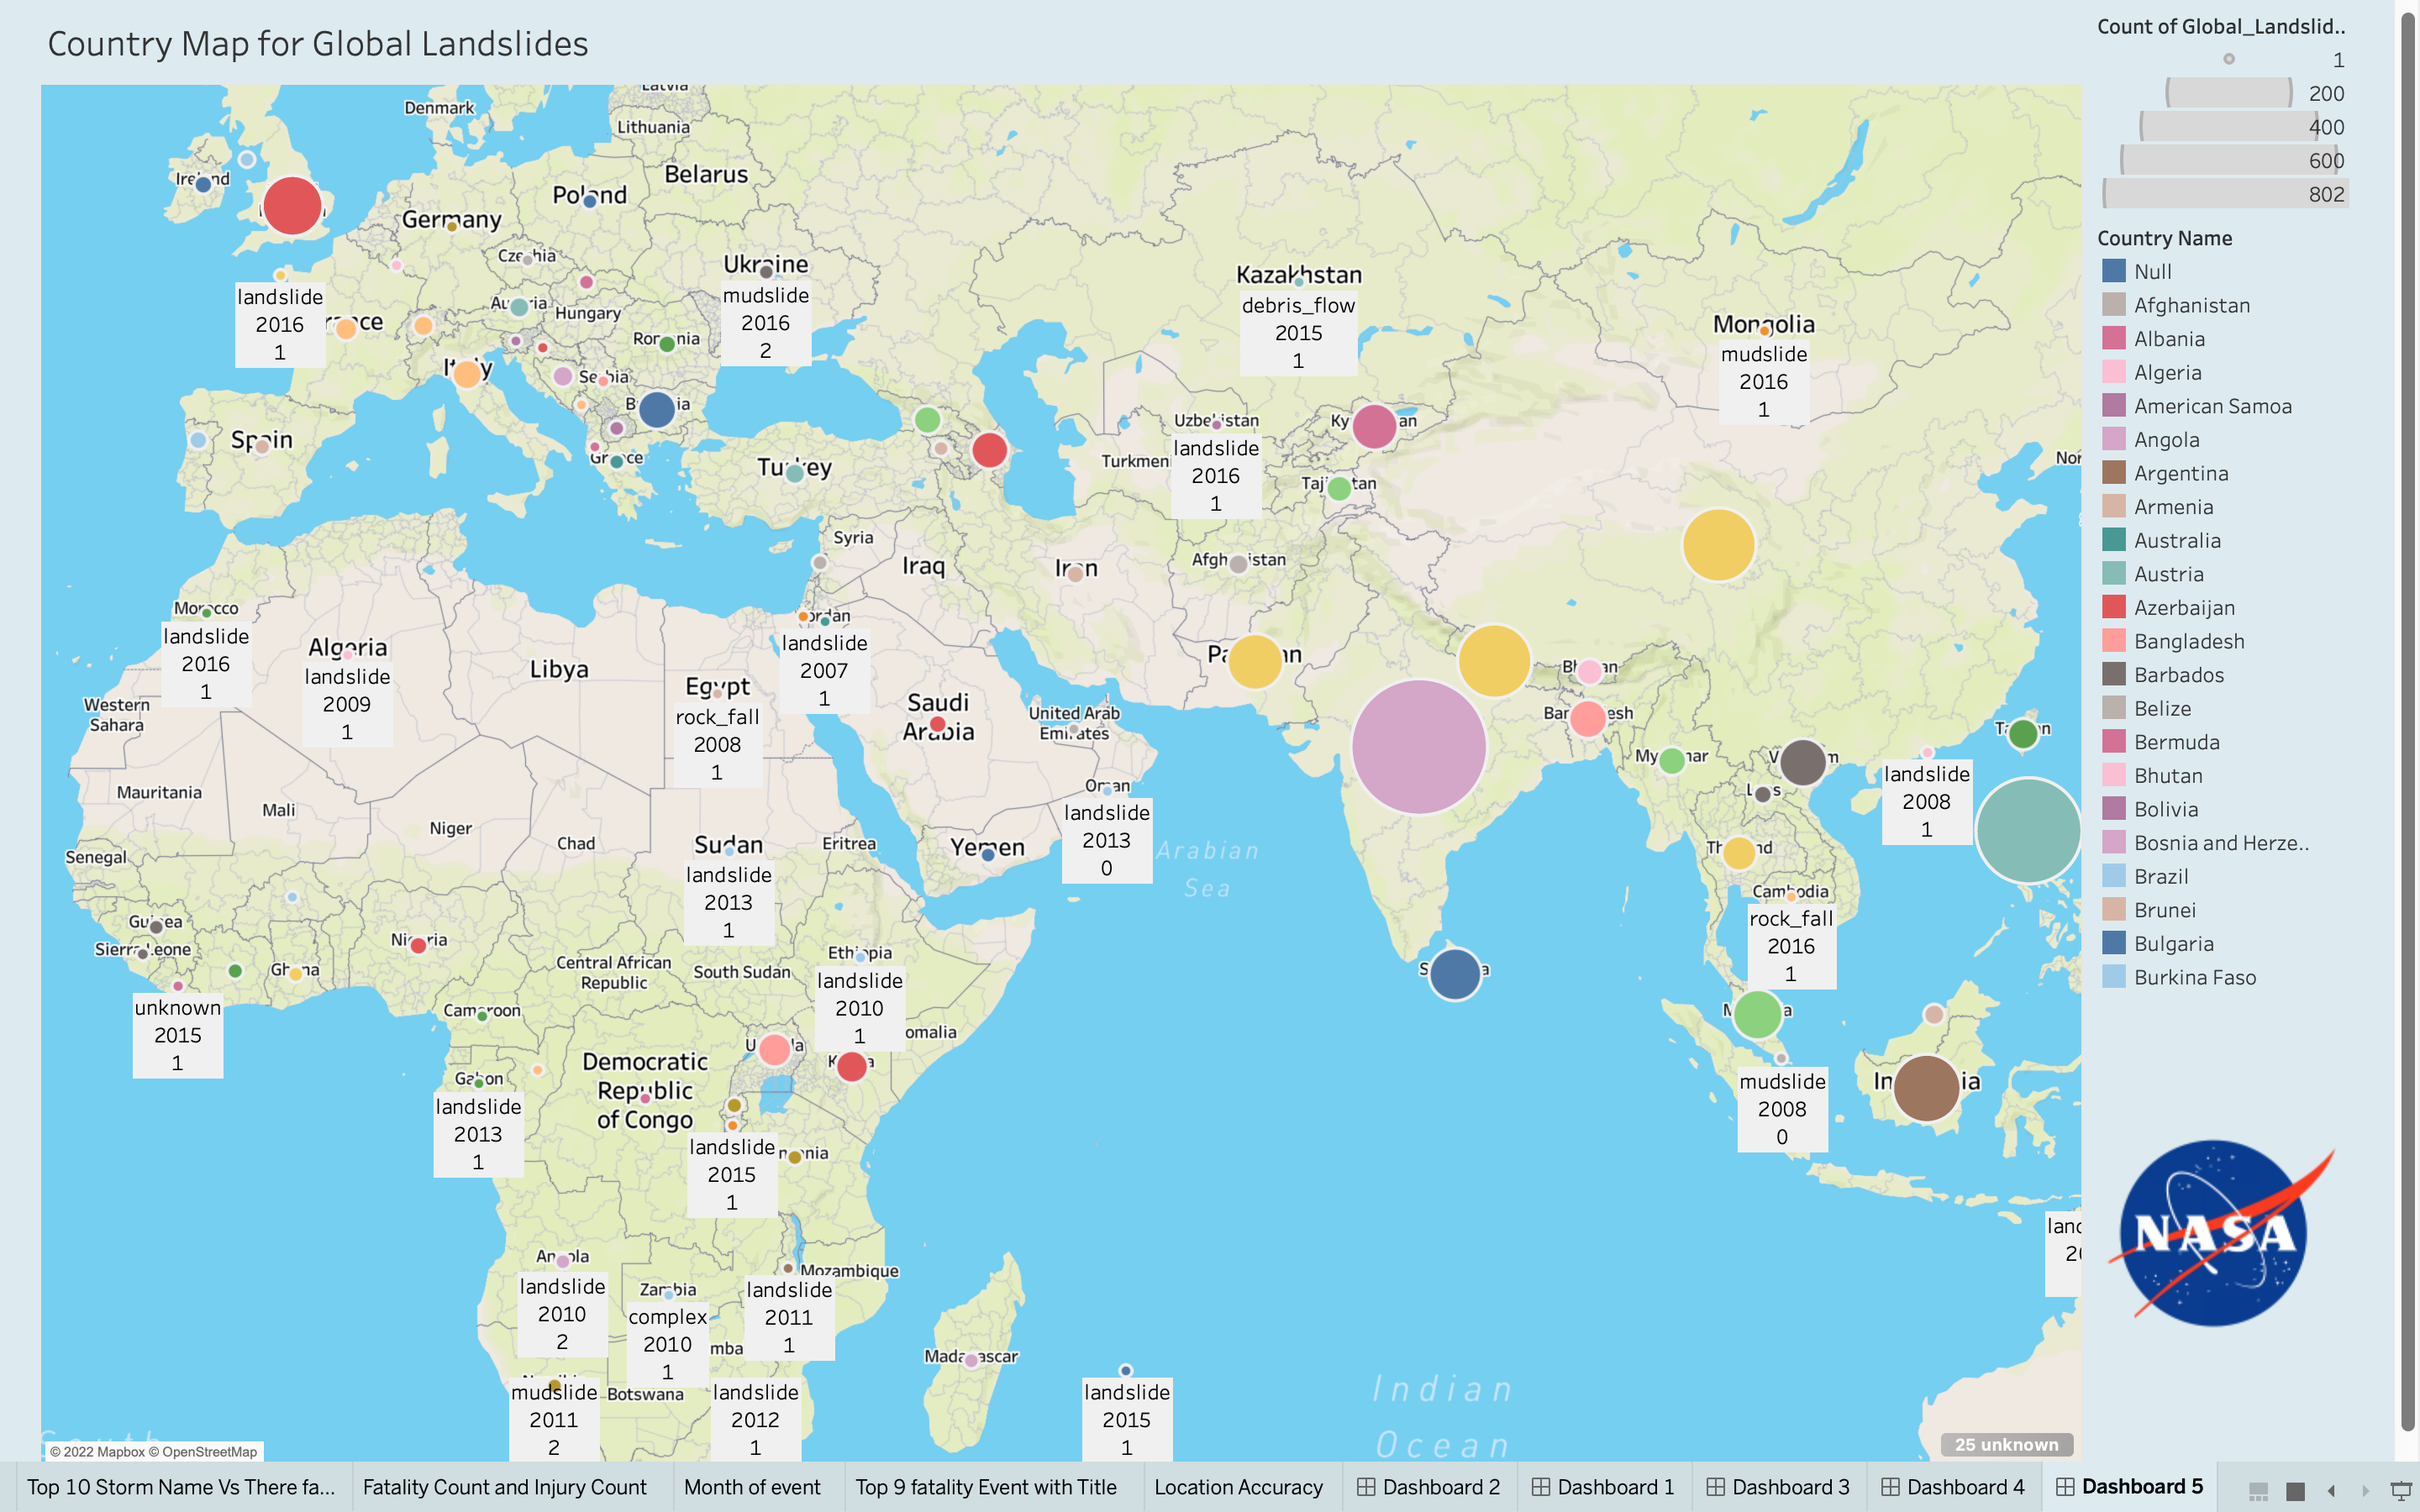

What the dashboard file says about the page in this screenshot:
{"tool":"tableau","page":{"name":"Dashboard 5","canvas":[1400,890],"ordinal":4},"visuals":[{"type":"worksheet","title":"Country Map for Global Landslides","mark":"Automatic","box":[8,8,1224,874]},{"type":"legend","title":"Country Map for Global Landslides","param":"[federated.0kfkd3g0jua60n1h378do0fg3oir].[__tableau_internal_object_id__].[cnt:G","box":[1232,8,160,126]},{"type":"legend","title":"Country Map for Global Landslides","param":"[federated.0kfkd3g0jua60n1h378do0fg3oir].[none:country_name:nk]","box":[1232,134,160,466]},{"type":"image","param":"/Users/shreyanthhg/Desktop/Nasa Landslide project/NASA_logo-8td4zsaaF-transforme","box":[1232,600,160,282]}]}

Visuals, with their boxes on the page's 1400x890 design canvas (x1, y1, x2, y2). These are canvas units, not pixel positions in the 2420x1512 screenshot, which may show the page scaled, cropped or inside an application window:
"Country Map for Global Landslides" worksheet: <box>8,8,1232,882</box>
"Country Map for Global Landslides" legend: <box>1232,8,1392,134</box>
"Country Map for Global Landslides" legend: <box>1232,134,1392,600</box>
image: <box>1232,600,1392,882</box>
